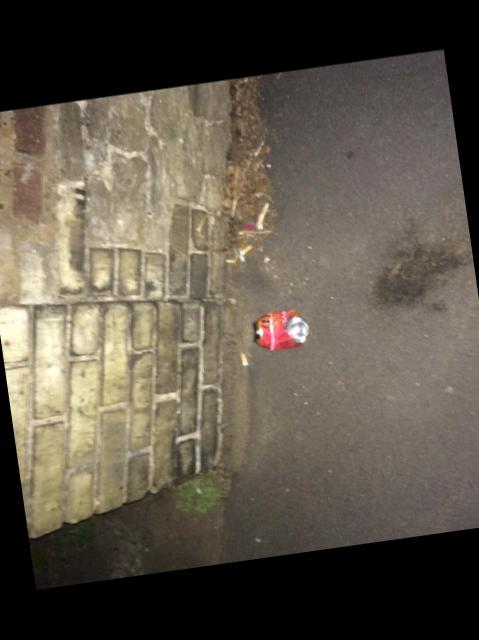metal: (252, 310, 301, 351)
